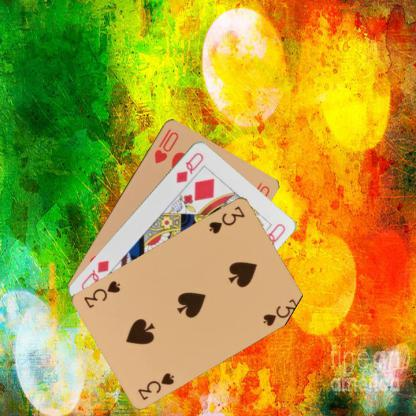10h: (151, 125, 180, 165)
3s: (135, 369, 176, 402), (206, 203, 246, 235)
Qd: (173, 150, 205, 184)
